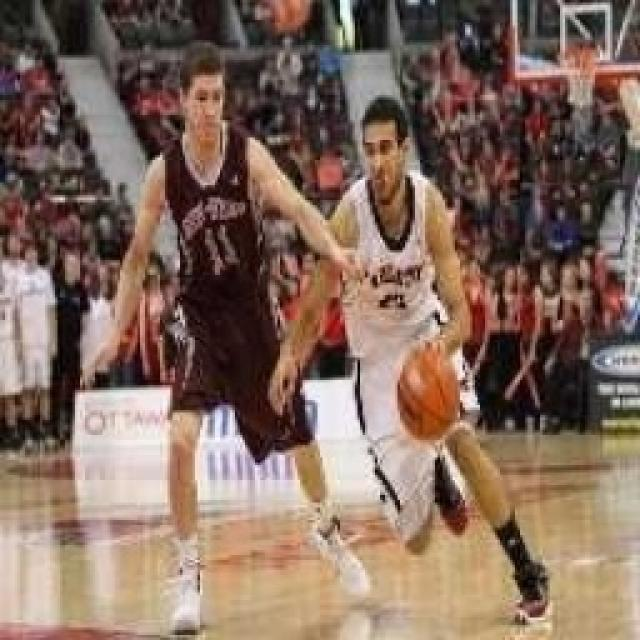rim: (388, 342, 466, 442)
